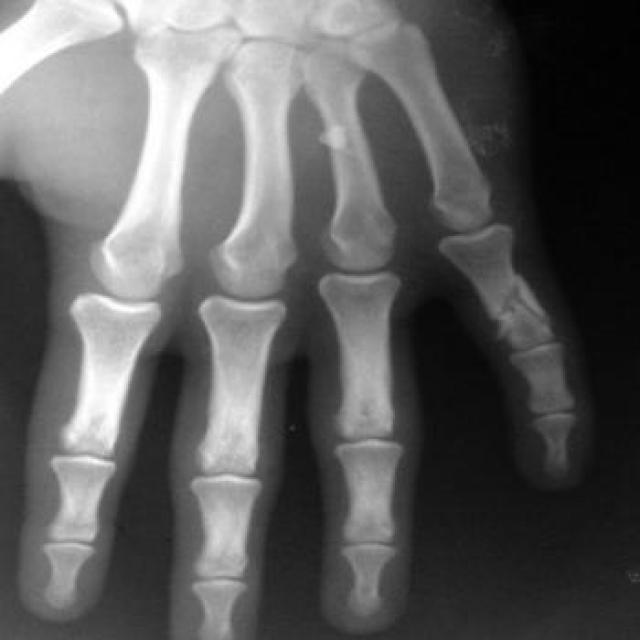Fracture: (478, 270, 568, 341)
